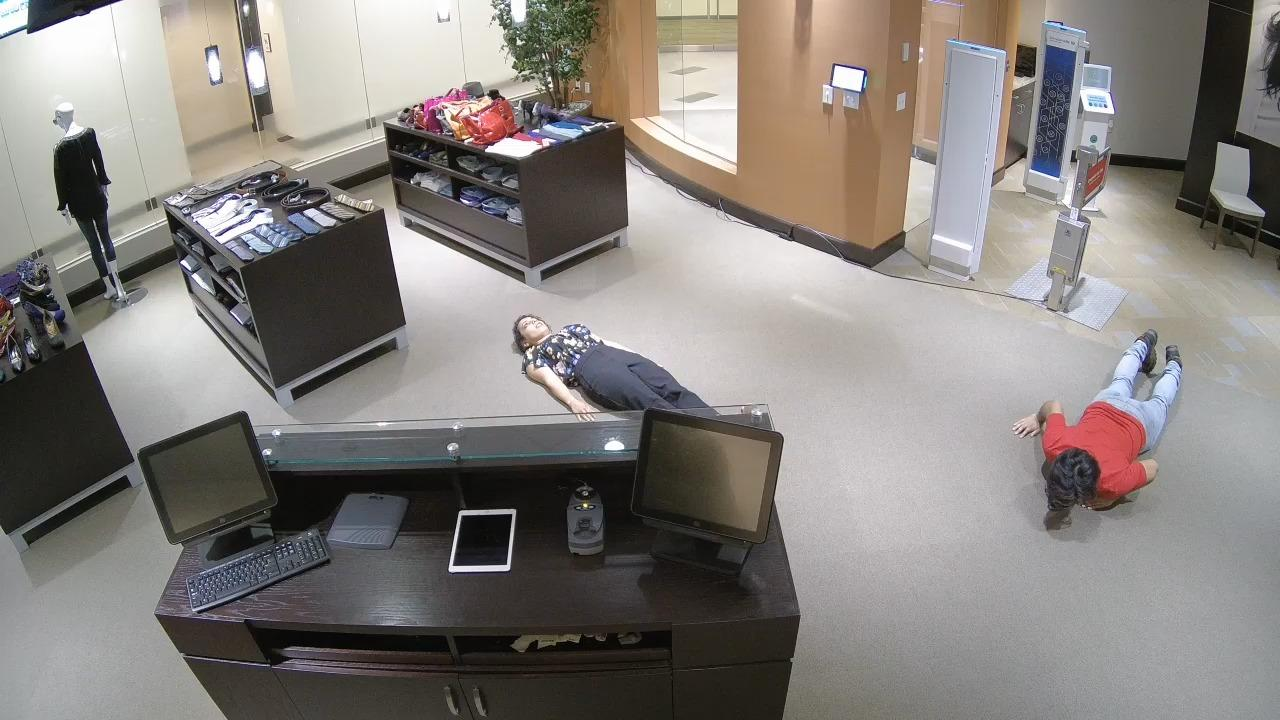fall: (510, 305, 776, 440), (1011, 327, 1185, 515)
